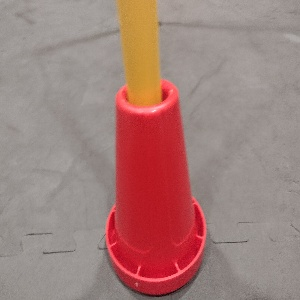Red_1: (105, 77, 208, 296)
